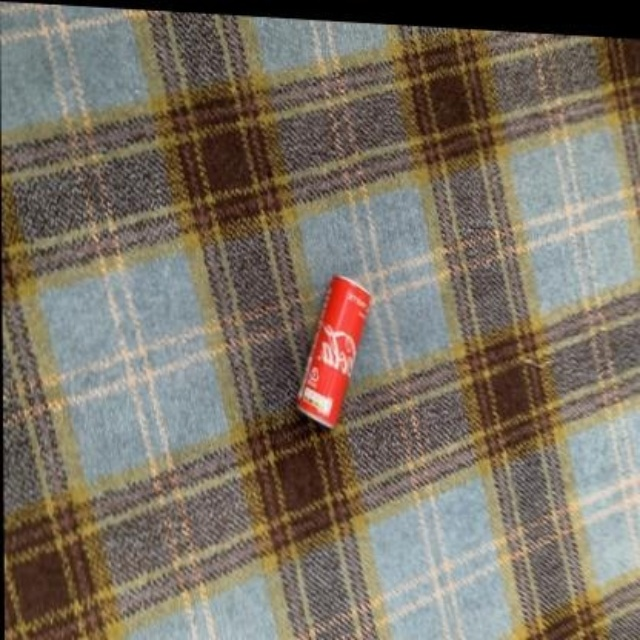trash: (297, 275, 371, 426)
